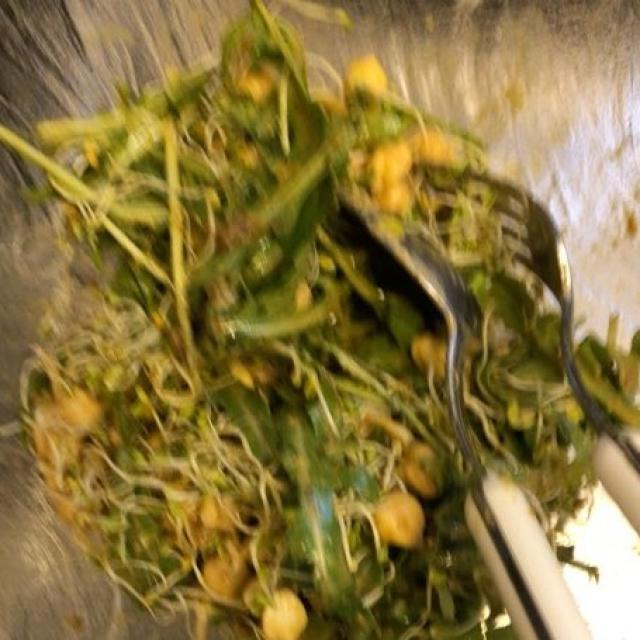chickpeas: (371, 442, 438, 541)
salad: (149, 19, 435, 619)
shoots: (18, 317, 261, 578)
